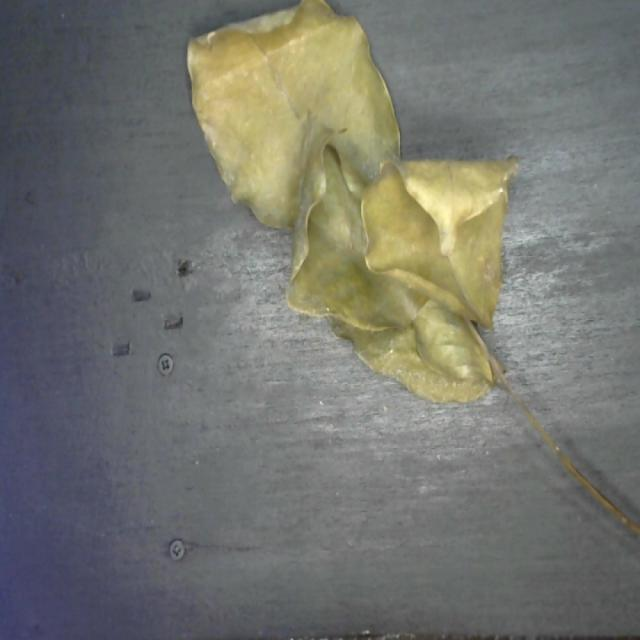biodegradable: (177, 0, 508, 414)
